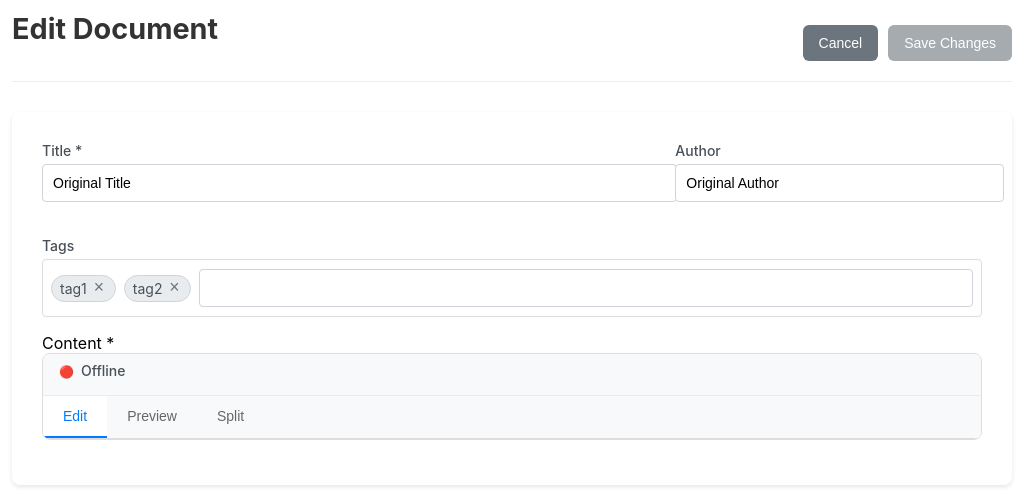
Scenario: DocumentEdit › change detection › detects author changes
Expected: the button "Save Changes" is disabled, [888,25,1012,61]
Step 1. Replace the text in the field labelled "Author" with "New Author" → (840, 183), box [675,164,1004,202]
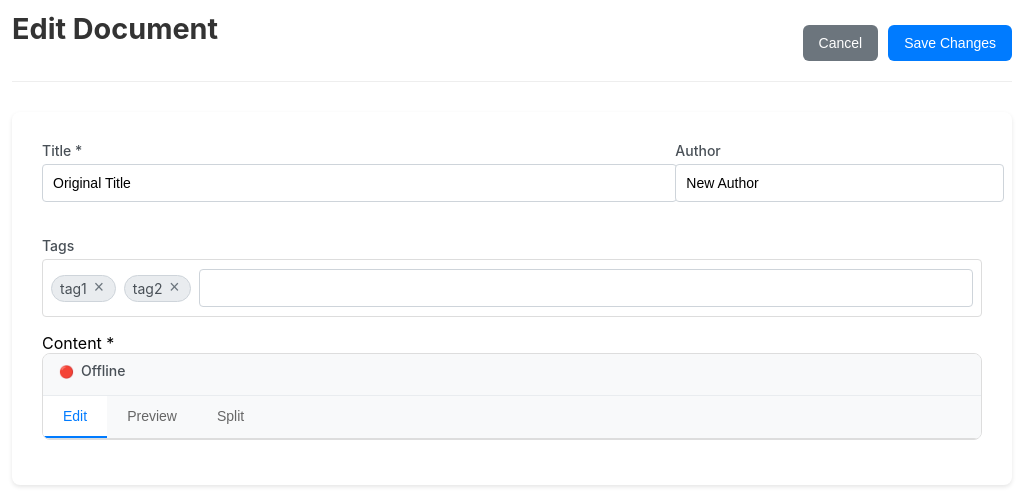
Expected: the button "Save Changes" is enabled, [888,25,1012,61]
